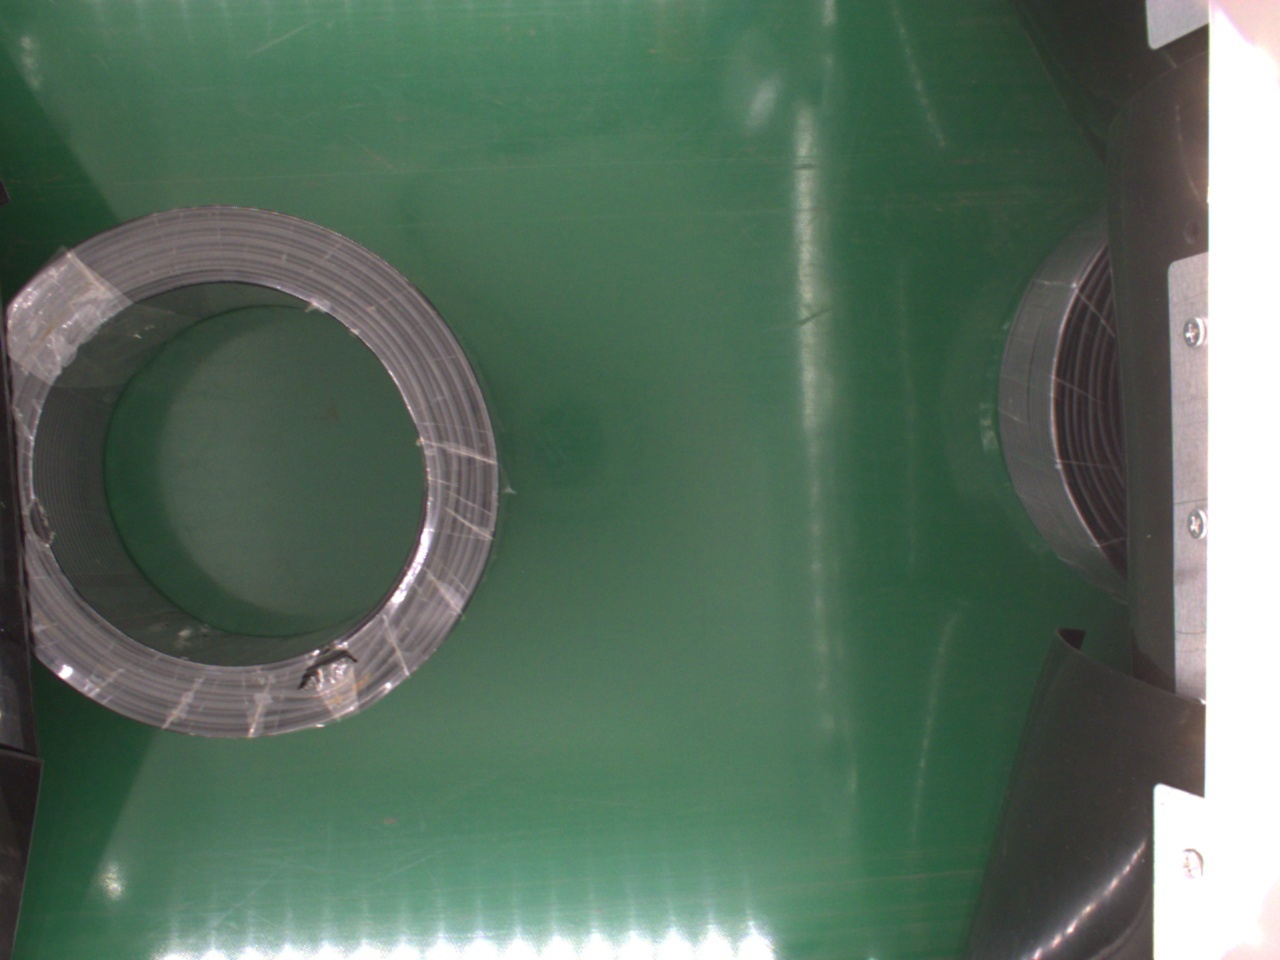black: (7, 208, 499, 738), (995, 225, 1136, 594)
